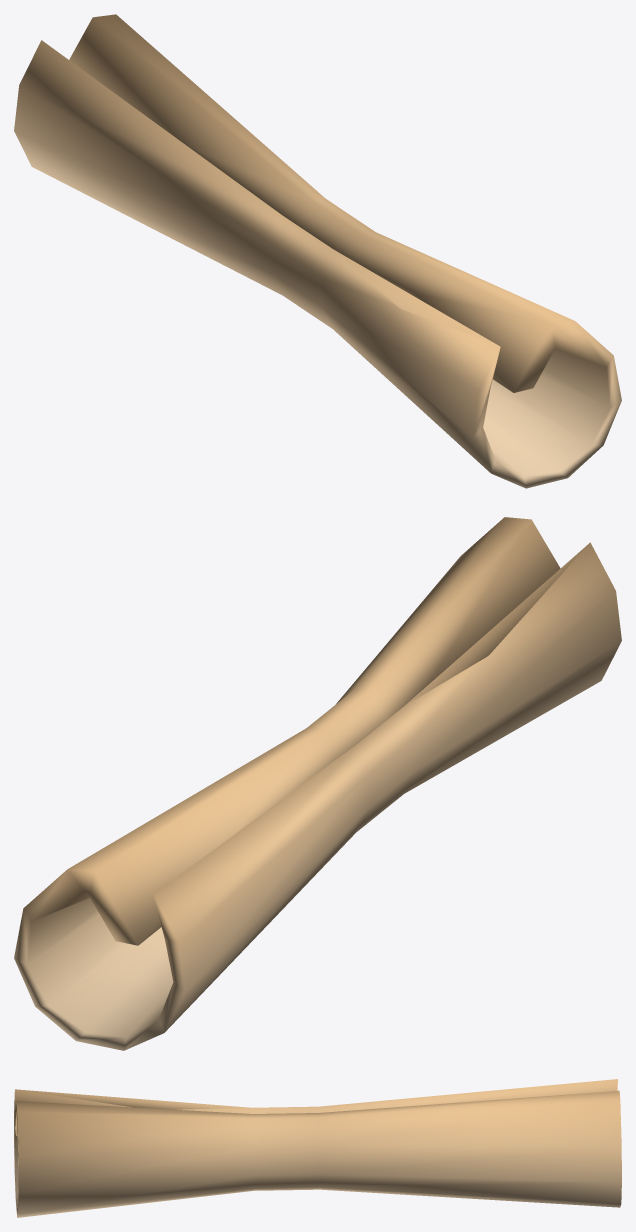
Rendered from paperRoll.fbx.
The picture shows the model from 3 angles, top to bottom: view 1: azimuth 30°, elevation 25°; view 2: azimuth 150°, elevation 25°; view 3: azimuth 270°, elevation 25°; orthographic projection. The views are drawn at different scales.
Visible parts, largest first — view 1: Cube.003; view 2: Cube.003; view 3: Cube.003.
Boxes of the visible parts, x1,y1,x2,y2 form: Cube.003: (14, 14, 621, 488); Cube.003: (14, 517, 621, 1050); Cube.003: (14, 1079, 621, 1217).
Size of the model in its own units: 6.74 by 5.59 by 27.68.
